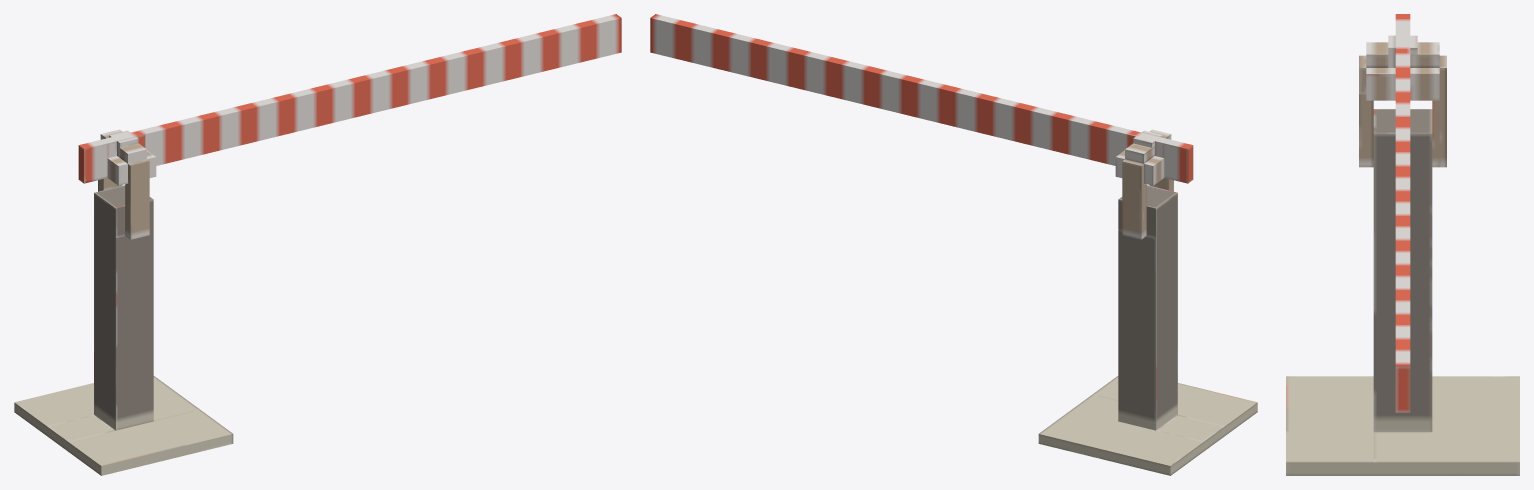
Rendered from BasicRampRedWhite.obj.
The picture shows the model from 3 angles, left to right: view 1: azimuth 30°, elevation 25°; view 2: azimuth 150°, elevation 25°; view 3: azimuth 270°, elevation 25°; orthographic projection. The views are drawn at different scales.
Parts seen in each view (by area): view 1: Model; view 2: Model; view 3: Model.
Boxes of the visible parts, bbox=[...] form: Model: bbox=[14, 14, 621, 475]; Model: bbox=[650, 14, 1257, 475]; Model: bbox=[1286, 14, 1519, 475].
Bounding box in the file's own units: 29.75 × 14.75 × 8.
1 material, 1 textured.
